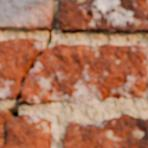brick: (57, 0, 147, 32), (63, 114, 147, 147), (0, 0, 53, 30)
broken_brick: (18, 43, 147, 104), (0, 37, 43, 100), (0, 113, 51, 147), (0, 110, 4, 119)
crack: (0, 2, 60, 145), (47, 138, 51, 146)
